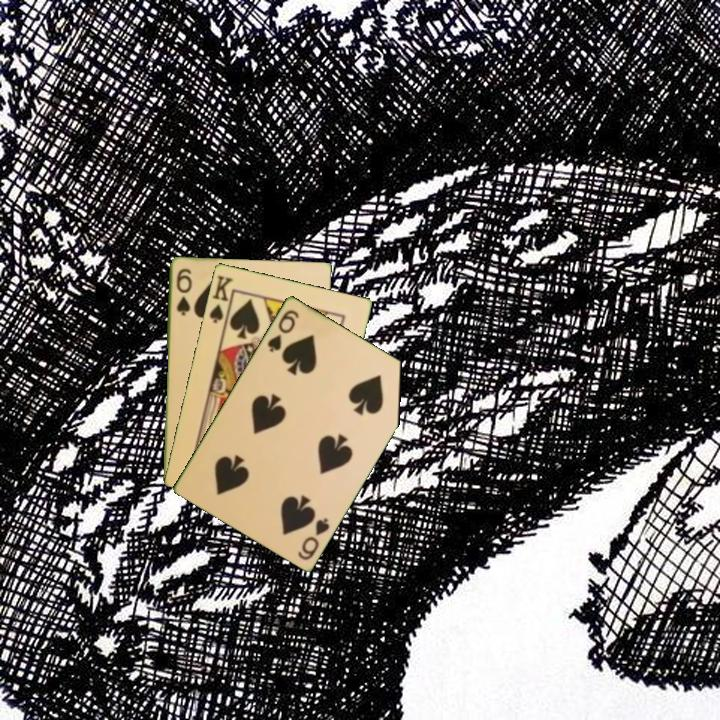6s: (263, 306, 302, 355), (294, 514, 332, 563), (173, 265, 194, 318)
Ks: (205, 271, 236, 326)
